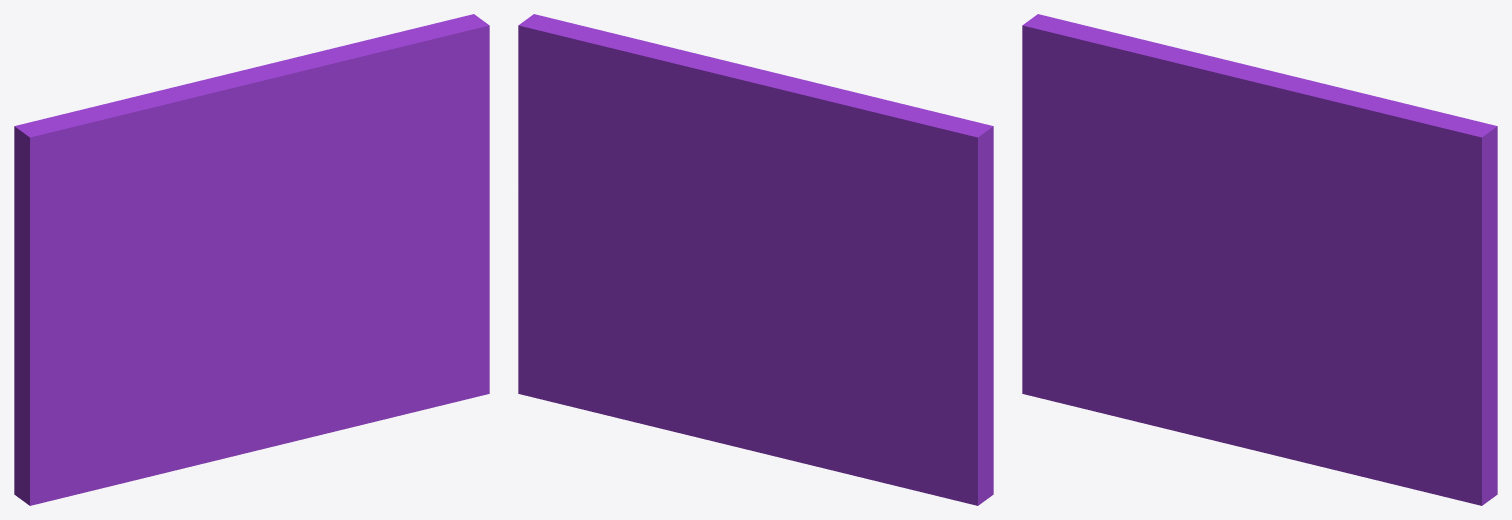
Rendered from Barrier_190_chunks.fbx.
The picture shows the model from 3 angles, left to right: view 1: azimuth 30°, elevation 25°; view 2: azimuth 150°, elevation 25°; view 3: azimuth 330°, elevation 25°; orthographic projection.
Visible parts, largest first — view 1: Barrier_190_2, Barrier_190_3, Barrier_190_1; view 2: Barrier_190_2, Barrier_190_3, Barrier_190_1, Barrier_190_0; view 3: Barrier_190_2, Barrier_190_3, Barrier_190_1.
Boxes of the visible parts, <box> form: Barrier_190_2: <box>14,99,258,505</box>; Barrier_190_3: <box>127,14,489,266</box>; Barrier_190_1: <box>173,193,489,470</box>; Barrier_190_2: <box>761,99,993,505</box>; Barrier_190_3: <box>518,14,883,248</box>; Barrier_190_1: <box>518,191,833,470</box>; Barrier_190_0: <box>699,235,769,296</box>; Barrier_190_2: <box>1022,14,1251,428</box>; Barrier_190_3: <box>1132,41,1497,304</box>; Barrier_190_1: <box>1166,266,1497,505</box>.
Size of the model in its own units: 376 by 288 by 22.1.
